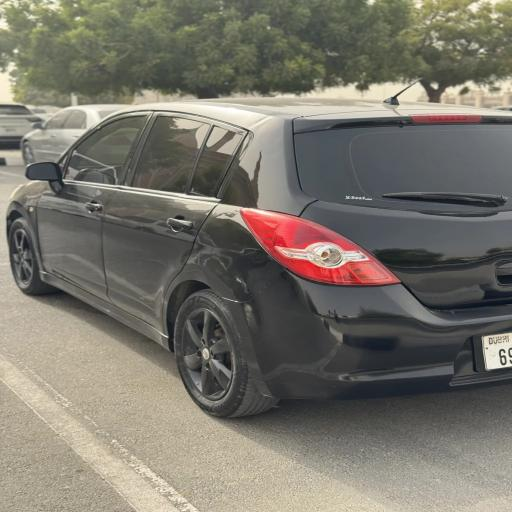license-plates: (482, 332, 512, 371)
